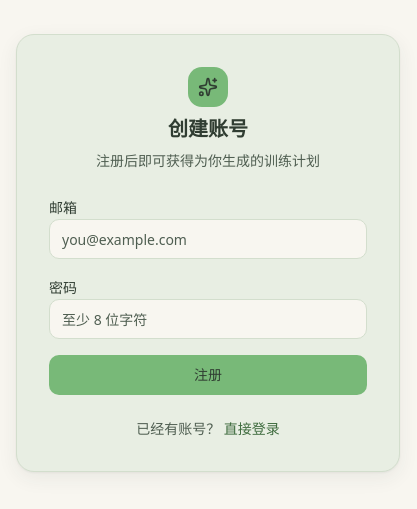
Test case: RegisterPage › shows a Chinese message when the email is already taken
Type "dup@user.com" into the field labelled "邮箱" at (208, 239), box [49,219,367,259]
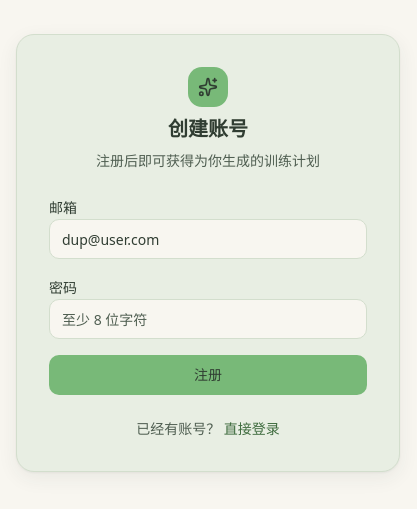
Type "password-123" into the password field labelled "密码" at (208, 319), box [49,299,367,339]
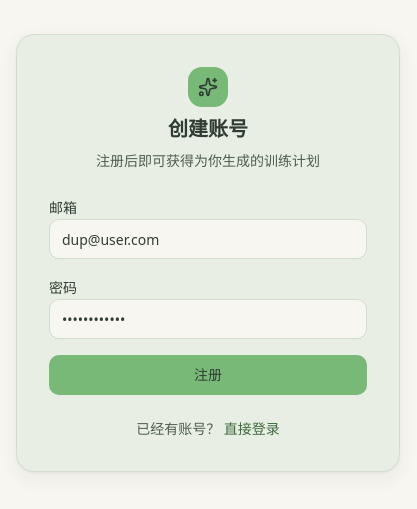
Click the button "注册" at (208, 375), box [49,355,367,395]
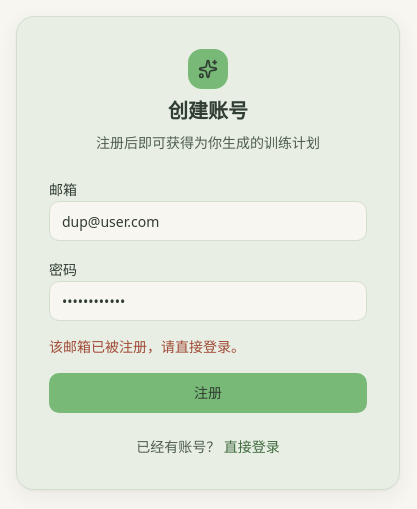
expect the message shows "该邮箱已被注册": met, box [49,337,245,356]
